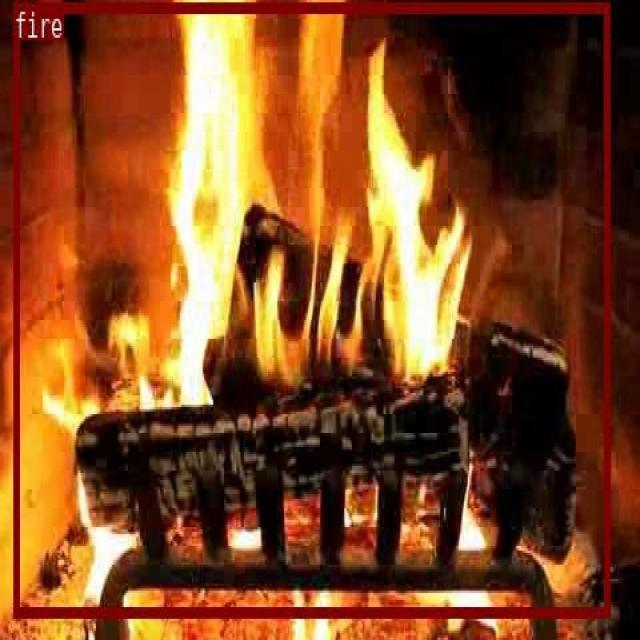fire: (13, 2, 608, 617)
